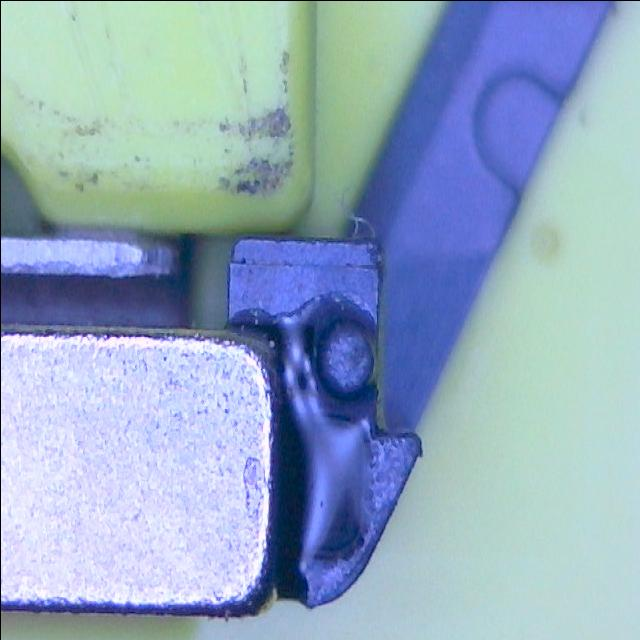over: (284, 398, 375, 568)
